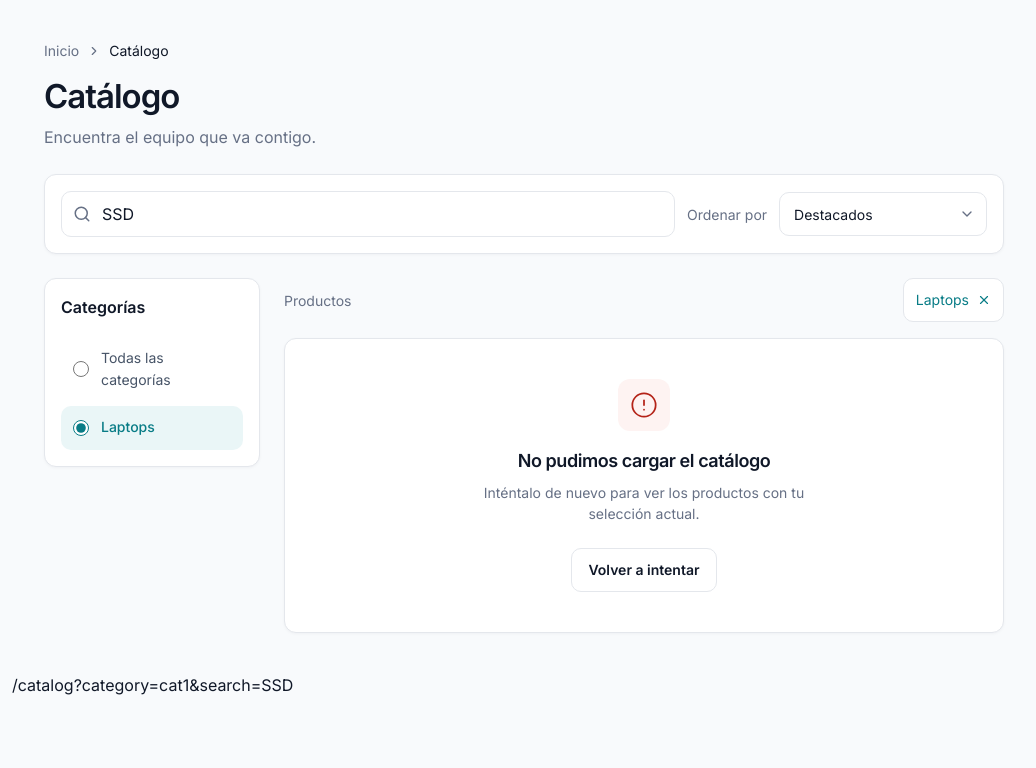
Product cards and catalog › distinguishes a loading error from empty results and retries the same filter selection
Check: the message that starts with "No pudimos cargar el catálogo" is shown, box top-left (518, 450), bottom-right (770, 471)
What coordinates should you click on to do the following:
click the button "Volver a intentar"
I would click on:
 (644, 570)
Its box is top-left (572, 548), bottom-right (717, 592).
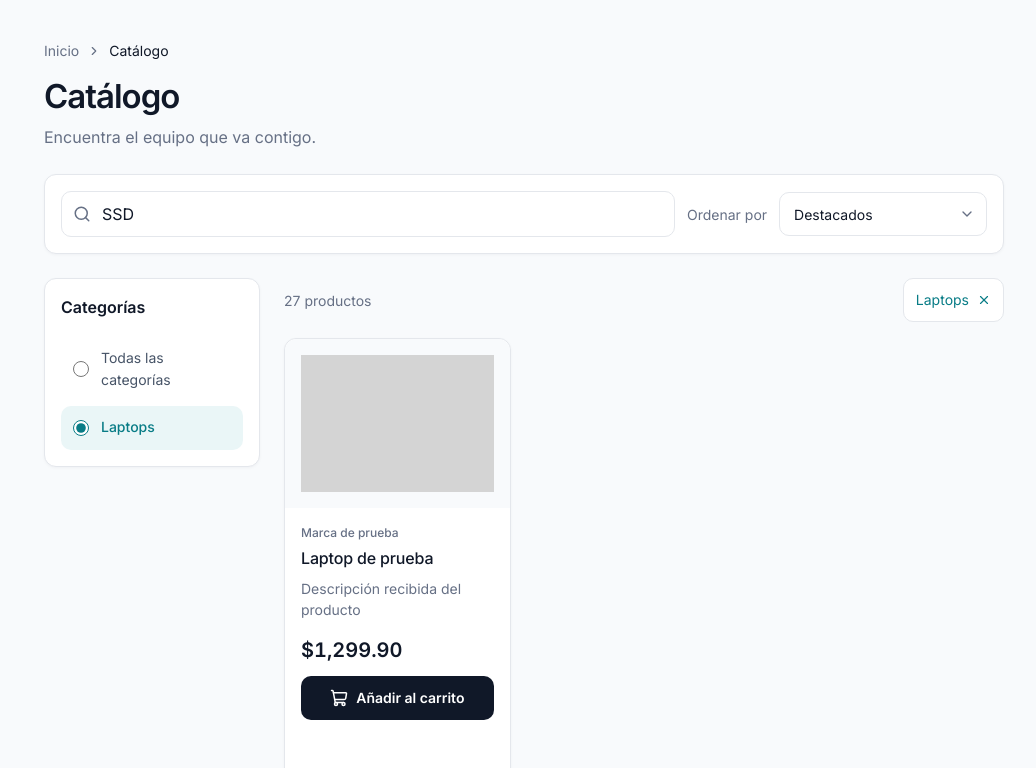
Check: the link "Laptop de prueba" is shown, box top-left (301, 548), bottom-right (433, 568)
